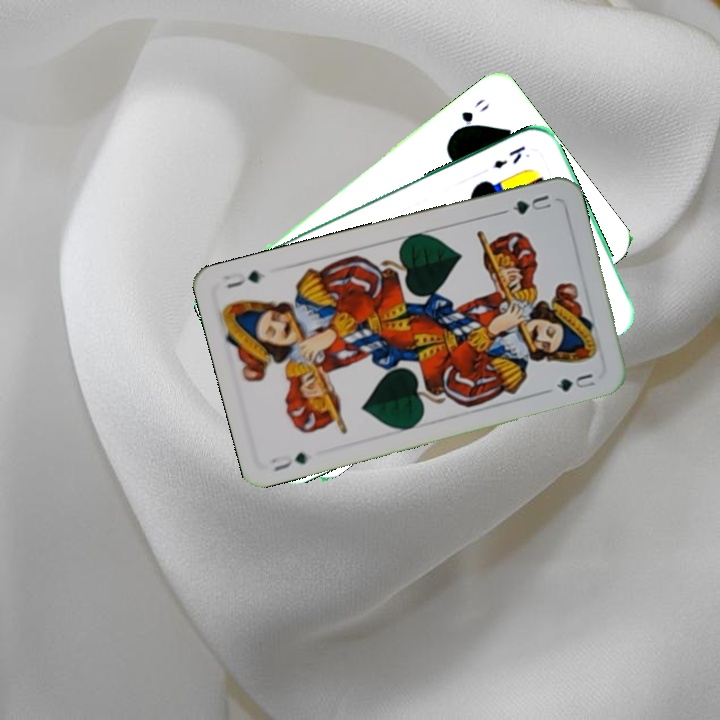EK: (489, 141, 529, 172)
GO: (448, 94, 493, 137)
GU: (508, 190, 554, 218), (267, 448, 311, 474)
